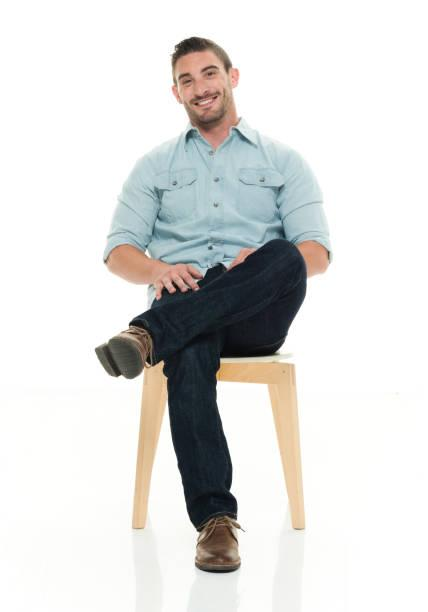long sleeve shirt: (102, 115, 333, 307)
trousers: (129, 238, 307, 532)
